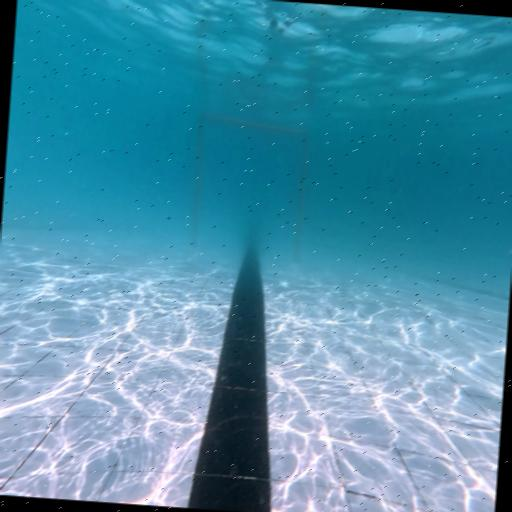gate: (191, 112, 312, 263)
